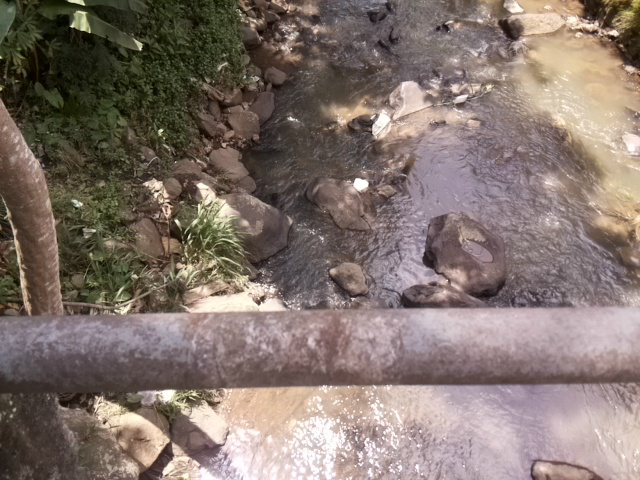Sampah_Plastik: (370, 111, 393, 139)
Sampah_Styrofoam: (354, 176, 369, 192)
